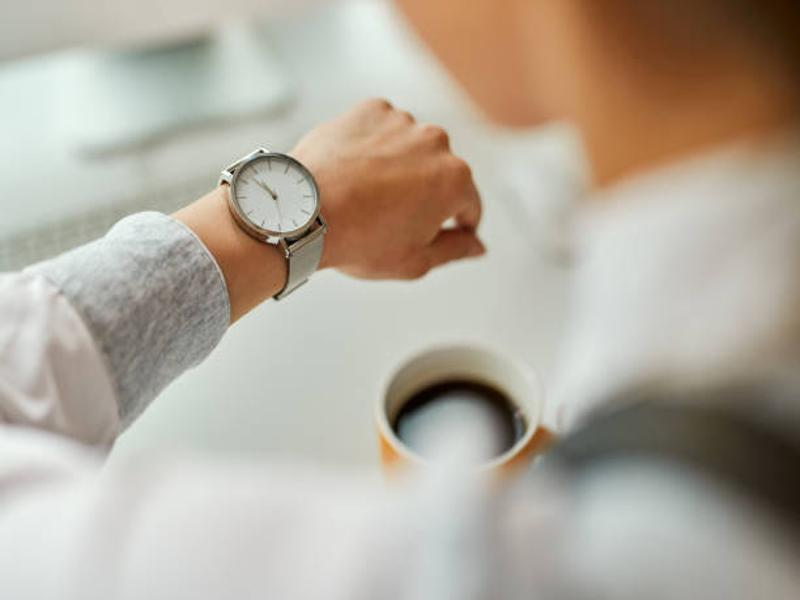watch: (220, 147, 329, 301)
